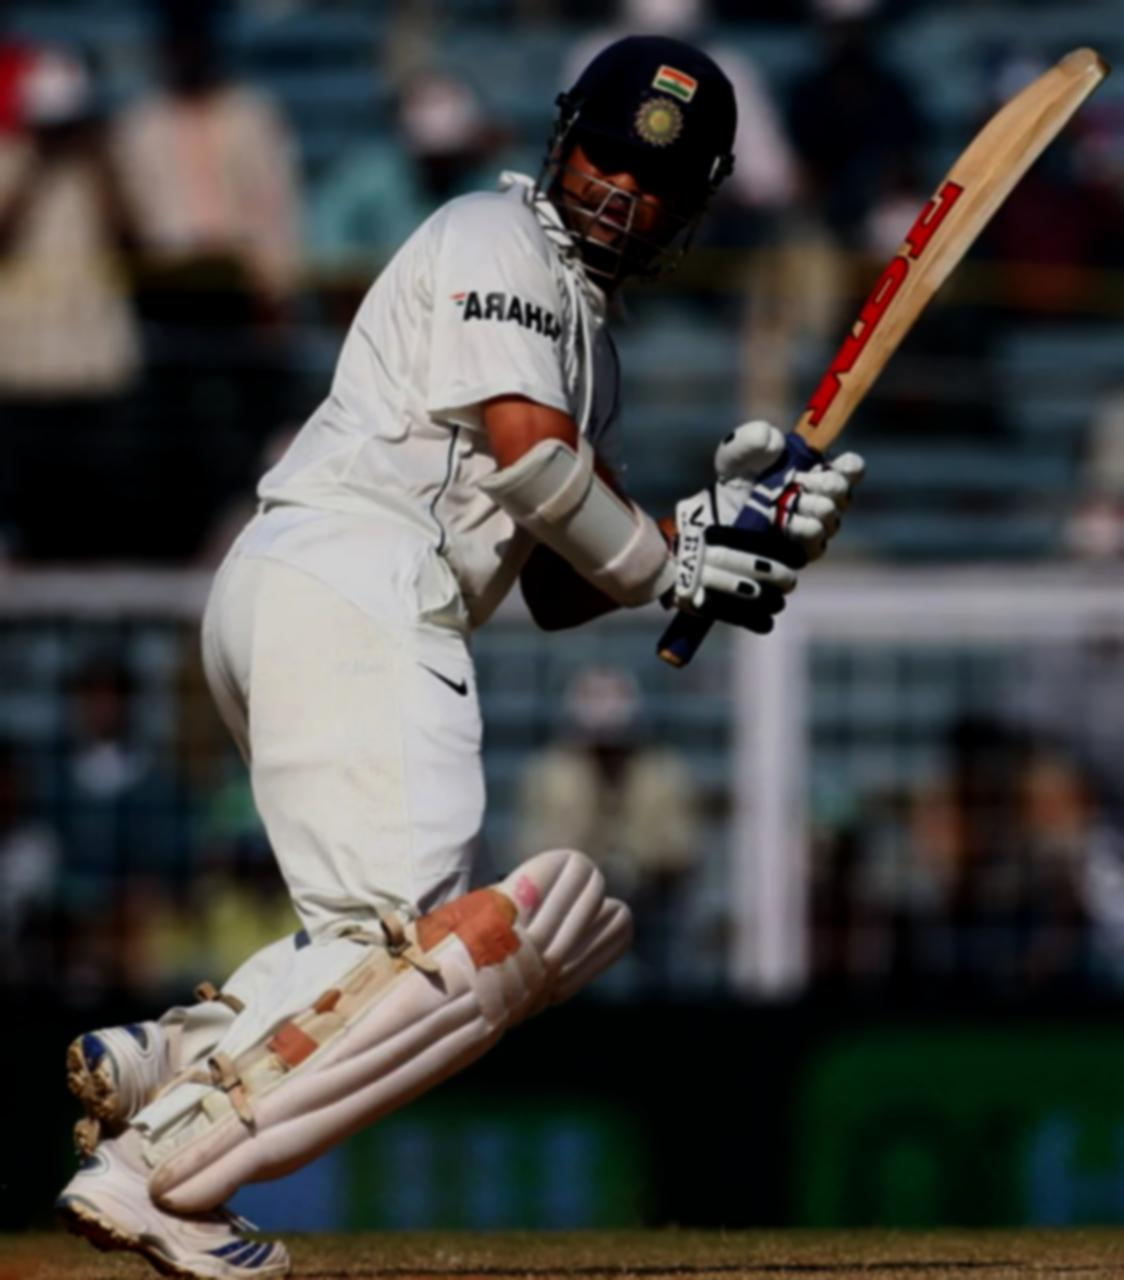batsman: (30, 0, 969, 1280)
